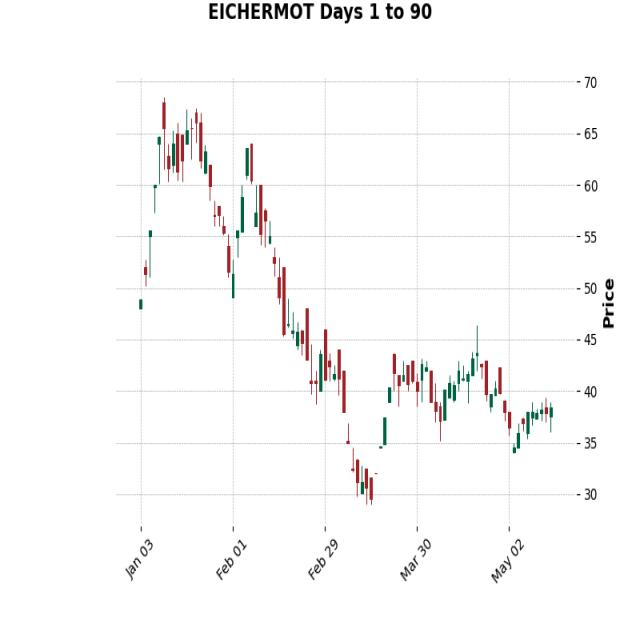Symmetric Triangle: (336, 322, 567, 516)
